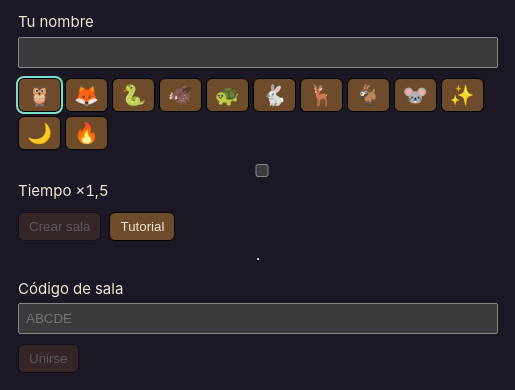
Test: WP-13 · Home › unirse necesita código de 5 letras
The width and height of the screenshot is (515, 390).
In the field labelled "Tu nombre": point(258, 52) [18,37,498,68], type "Iker"
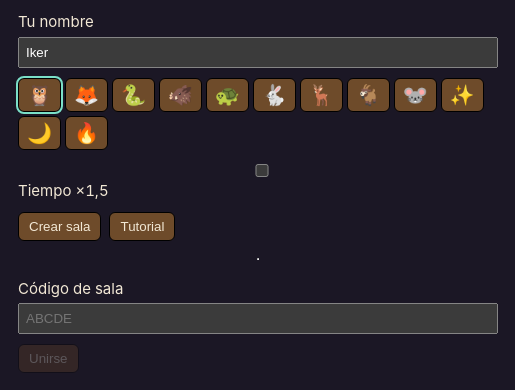
In the field labelled "Código de sala": point(258, 319) [18,303,498,334], type "ABC"
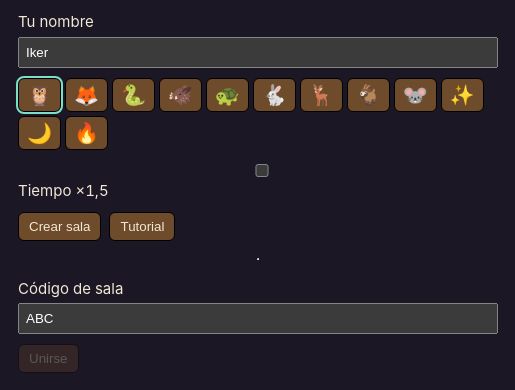
Check: the button "Unirse" is disabled, box [18,344,78,373]
Replace the text in the field labelled "Código de sala" with "ABCDE": point(258, 319) [18,303,498,334]
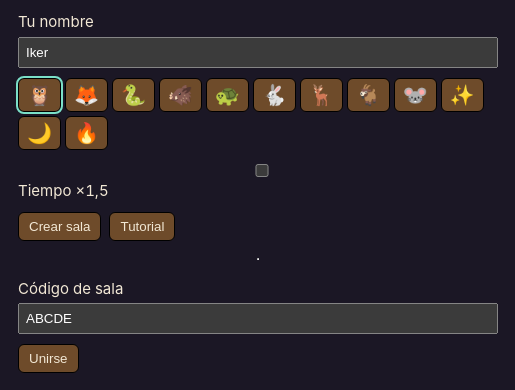
Check: the button "Unirse" is enabled, box [18,344,78,373]
